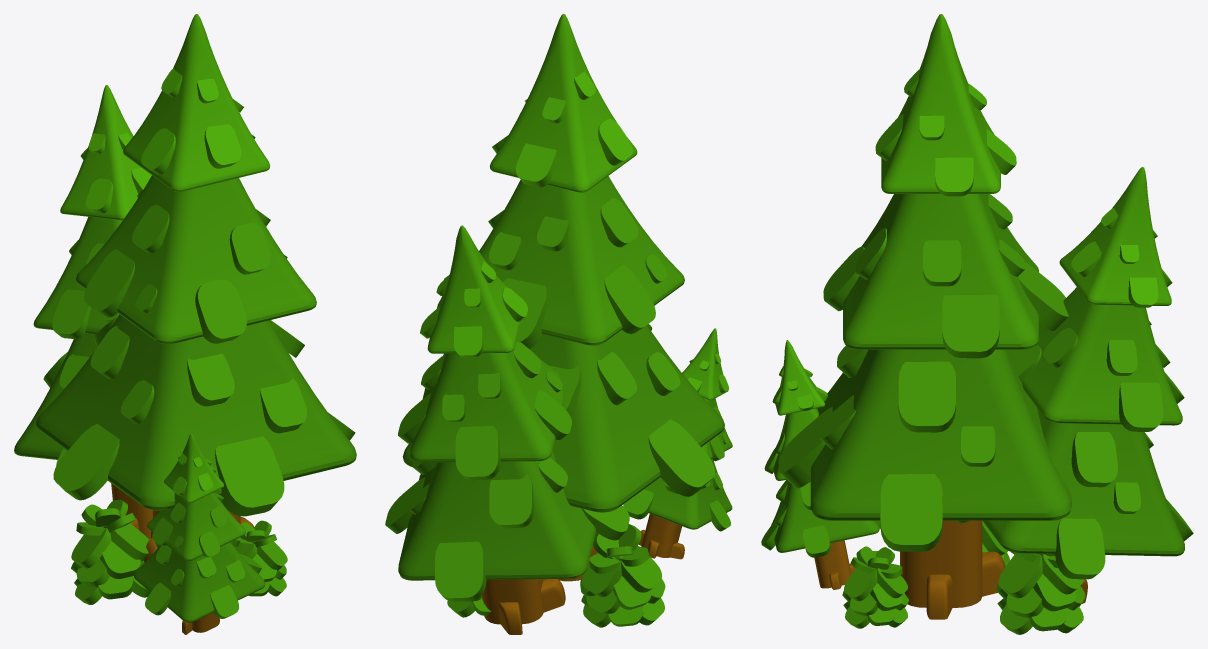
Rendered from bloc_forest_2.fbx.
The picture shows the model from 3 angles, left to right: view 1: azimuth 30°, elevation 25°; view 2: azimuth 150°, elevation 25°; view 3: azimuth 270°, elevation 25°; orthographic projection. The views are drawn at different scales.
Visible parts, largest first — view 1: Cube.257; view 2: Cube.257; view 3: Cube.257.
Part boxes in pixels (left/top/right/bottom): Cube.257: left=14, top=14, right=356, bottom=634; Cube.257: left=385, top=14, right=732, bottom=634; Cube.257: left=761, top=14, right=1193, bottom=634.
Size of the model in its own units: 821 by 1632 by 1052.
